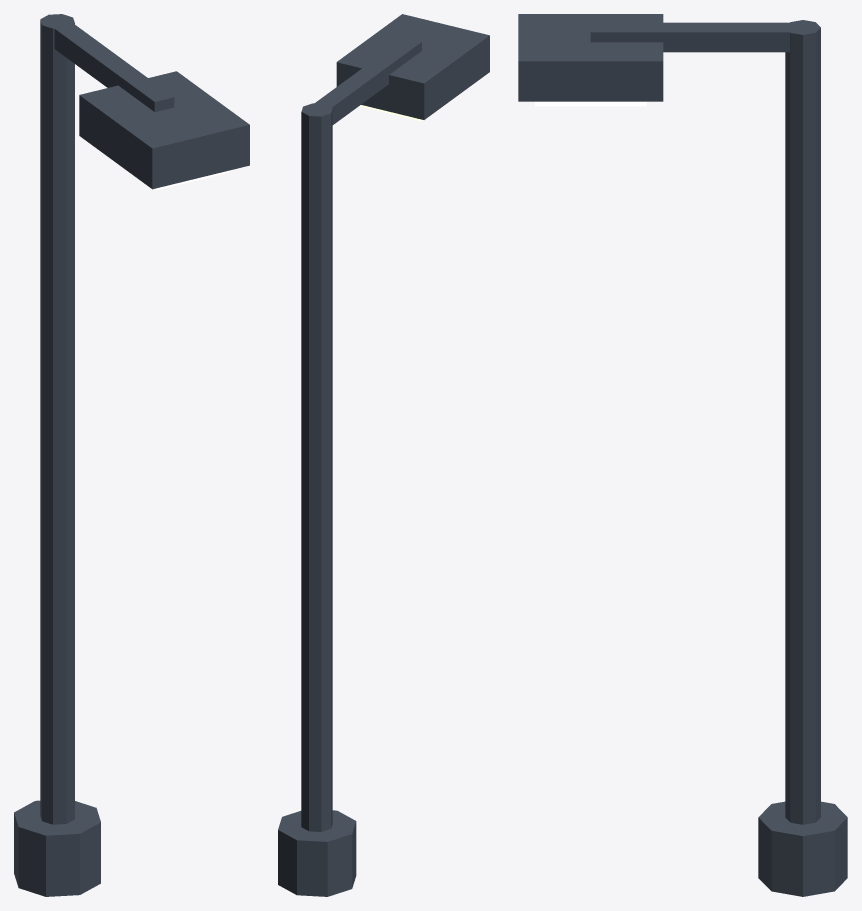
Rendered from lamp.glb.
3 renders of one model, left to right at view 1: azimuth 30°, elevation 25°; view 2: azimuth 150°, elevation 25°; view 3: azimuth 270°, elevation 25°, orthographic. The views are drawn at different scales.
Parts seen in each view (by area): view 1: lamp_0; view 2: lamp_0; view 3: lamp_0, lamp_1.
Boxes of the visible parts, x1=… form: lamp_0: x1=14, y1=14, x2=249, y2=896; lamp_0: x1=278, y1=14, x2=489, y2=896; lamp_0: x1=518, y1=14, x2=847, y2=896; lamp_1: x1=535, y1=101, x2=646, y2=106.
Size of the model in its own units: 0.5 by 4.2 by 1.47.
